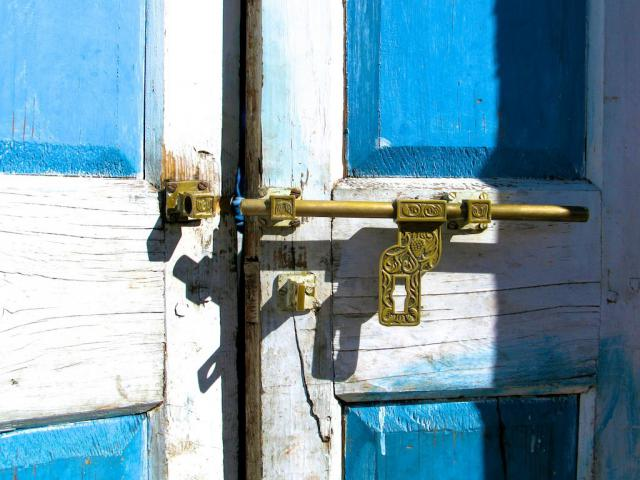Door-handle: (241, 196, 590, 326)
